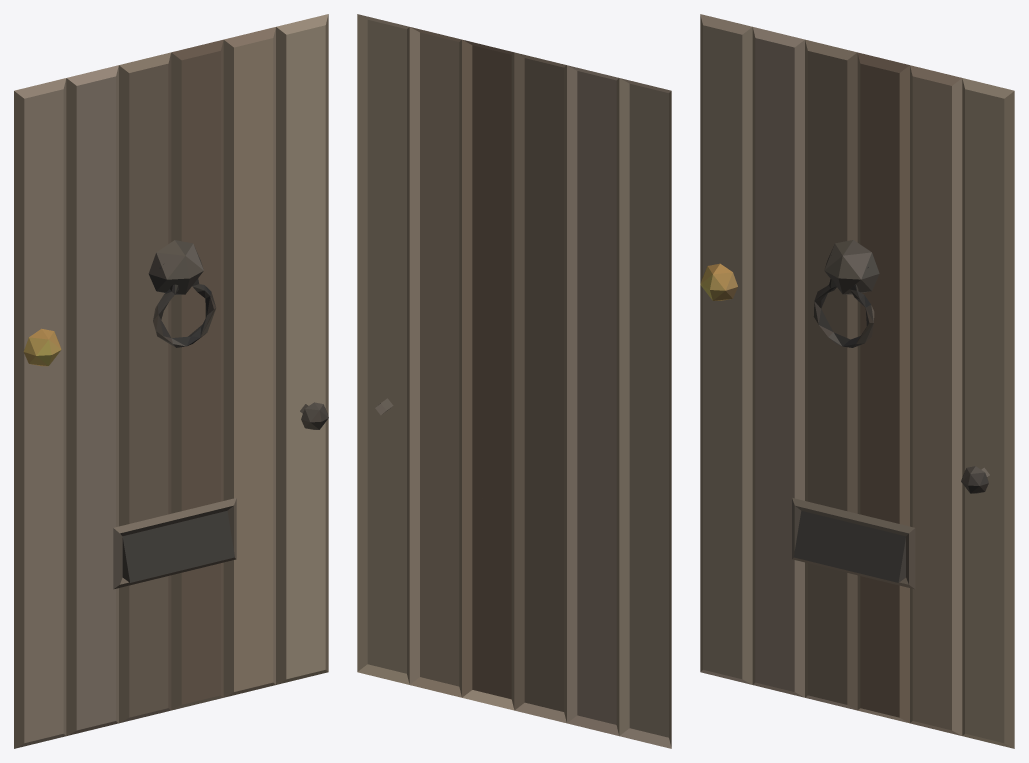
File: DoorA.fbx
3 renders of one model, left to right at view 1: azimuth 30°, elevation 25°; view 2: azimuth 150°, elevation 25°; view 3: azimuth 330°, elevation 25°, orthographic.
Parts seen in each view (by area): view 1: DoorA; view 2: DoorA; view 3: DoorA.
Part boxes in pixels (x1,y1,x2,y2): DoorA: (14, 14, 328, 748); DoorA: (357, 14, 671, 748); DoorA: (700, 14, 1014, 748).
Bounding box in the file's own units: 120 × 240 × 15.22.
